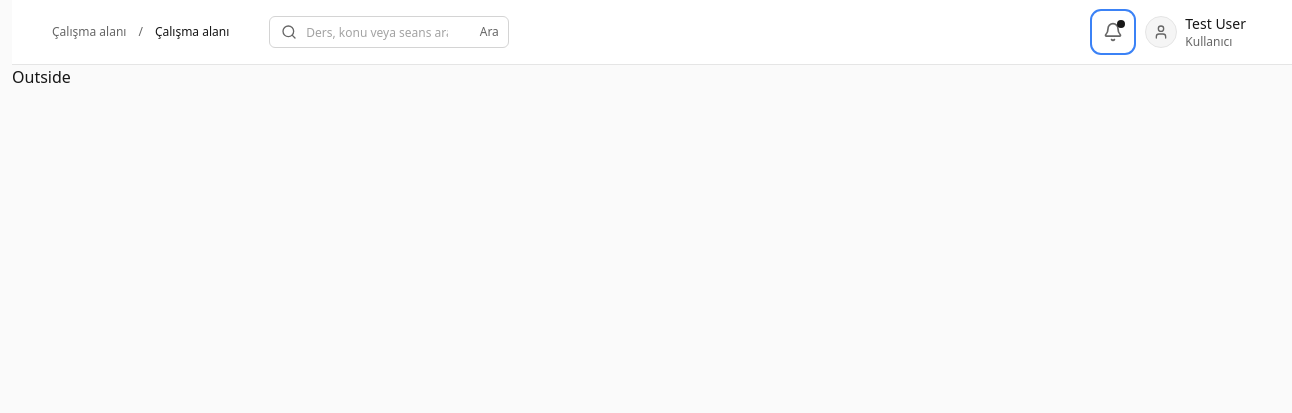
Test: shows stale records as stale after refresh failure and blocks misleading read actions
Click the button named "Bildirimler, 1 okunmamış" at point(1113, 32), box top-left (1095, 14), bottom-right (1131, 50)
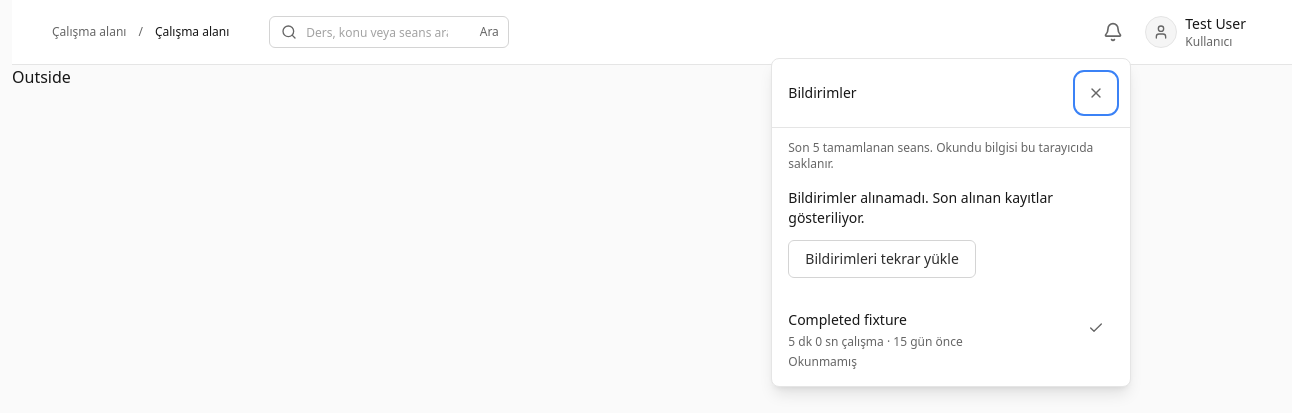
Check: the text "Completed fixture" is shown, box top-left (788, 310), bottom-right (907, 329)
Check: the text "Bildirimler alınamadı. Son alınan kayıtlar gösteriliyor." is shown, box top-left (788, 188), bottom-right (1053, 227)
